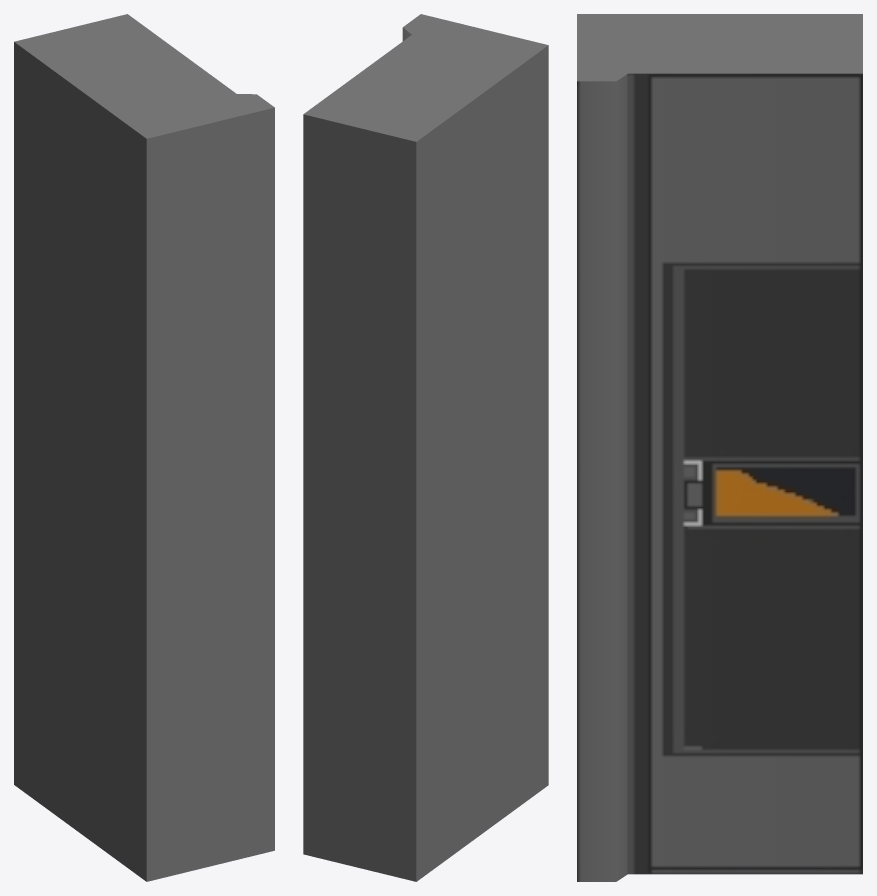
Rendered from Door_Right_2.fbx.
3 renders of one model, left to right at view 1: azimuth 30°, elevation 25°; view 2: azimuth 150°, elevation 25°; view 3: azimuth 270°, elevation 25°, orthographic. The views are drawn at different scales.
Visible parts, largest first — view 1: Door_Short_2; view 2: Door_Short_2; view 3: Door_Short_2.
Boxes of the visible parts, x1,y1,x2,y2 form: Door_Short_2: (14,14,274,881); Door_Short_2: (303,14,548,881); Door_Short_2: (577,14,862,881).
Bounding box in the file's own units: 0.5622 × 3.11 × 1.01.
1 material, 1 textured.
